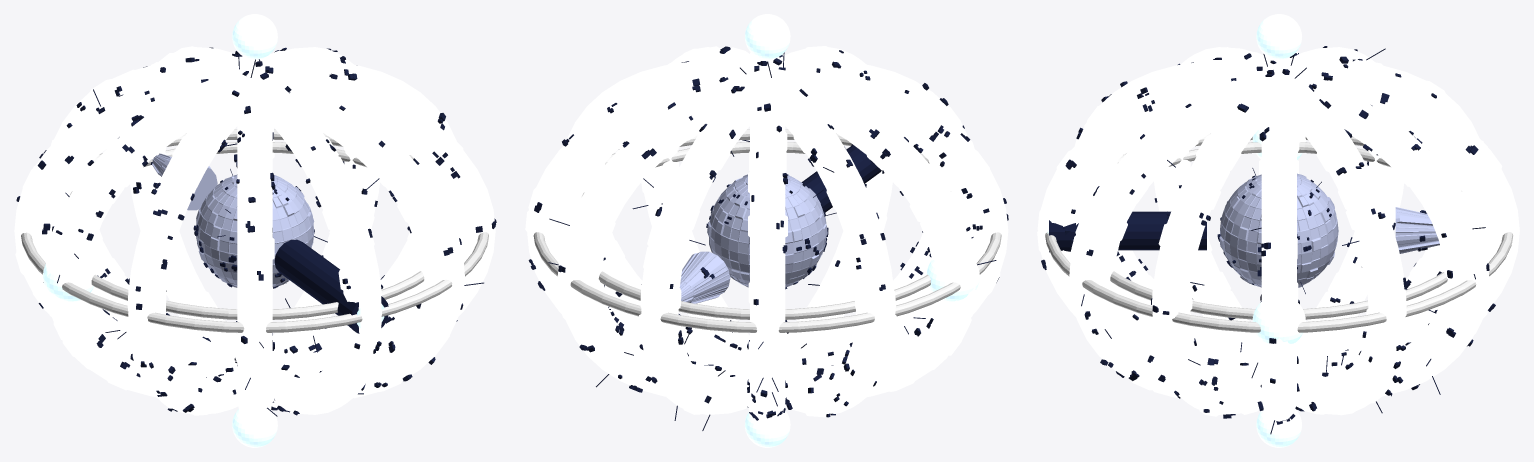
Rendered from velari_titan.glb.
3 renders of one model, left to right at view 1: azimuth 30°, elevation 25°; view 2: azimuth 150°, elevation 25°; view 3: azimuth 270°, elevation 25°, orthographic.
Visible parts, largest first — view 1: velari_titan; view 2: velari_titan; view 3: velari_titan.
Part boxes in pixels (<box>): velari_titan: <box>14,14,496,447</box>; velari_titan: <box>525,14,1008,447</box>; velari_titan: <box>1037,14,1519,447</box>.
Bounding box in the file's own units: 10.14 × 9.85 × 10.03.
